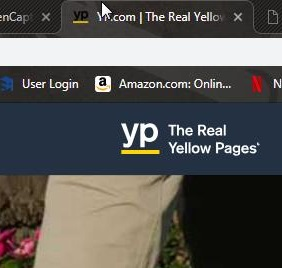cursor: (100, 1, 112, 20)
